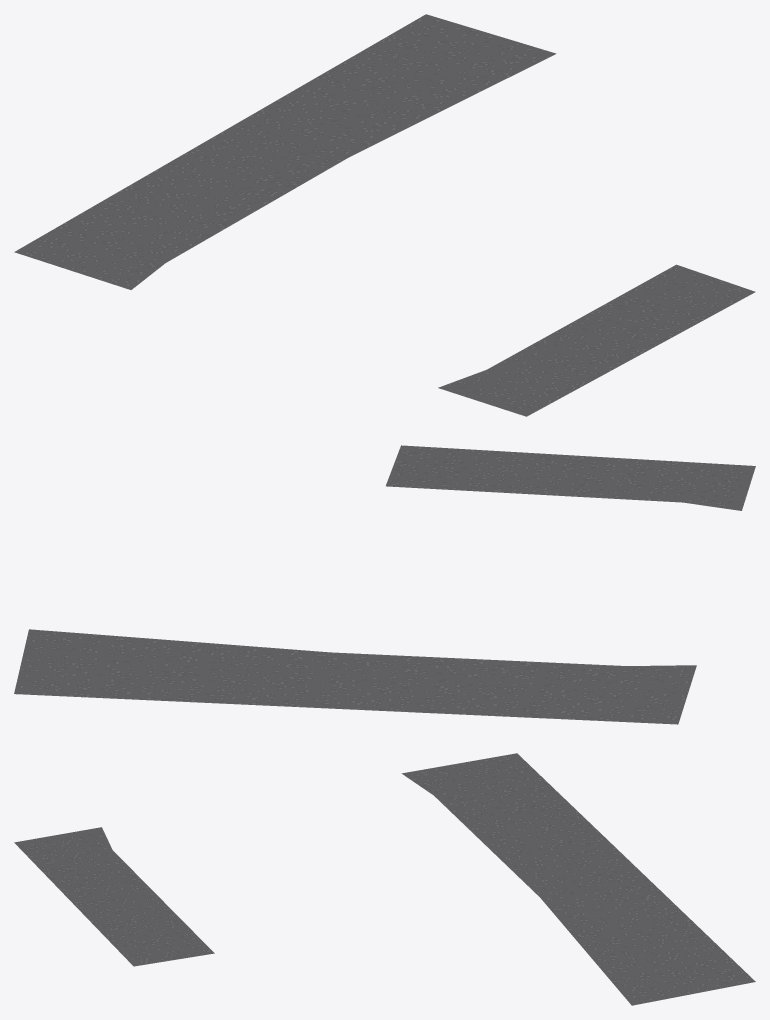
Rendered from kd_connection_world-inner_surface_16_22.glb.
The picture shows the model from 3 angles, top to bottom: view 1: azimuth 30°, elevation 25°; view 2: azimuth 150°, elevation 25°; view 3: azimuth 270°, elevation 25°; orthographic projection. The views are drawn at different scales.
Parts seen in each view (by area): view 1: kd_connection_world-inner_surface_16_22; view 2: kd_connection_world-inner_surface_16_22; view 3: kd_connection_world-inner_surface_16_22.
Boxes of the visible parts, <box> form: kd_connection_world-inner_surface_16_22: <box>14,14,755,416</box>; kd_connection_world-inner_surface_16_22: <box>14,445,755,724</box>; kd_connection_world-inner_surface_16_22: <box>14,753,755,1005</box>.
Size of the model in its own units: 17.18 by 0 by 21.33.
Materials: 1 (1 with a texture image).
